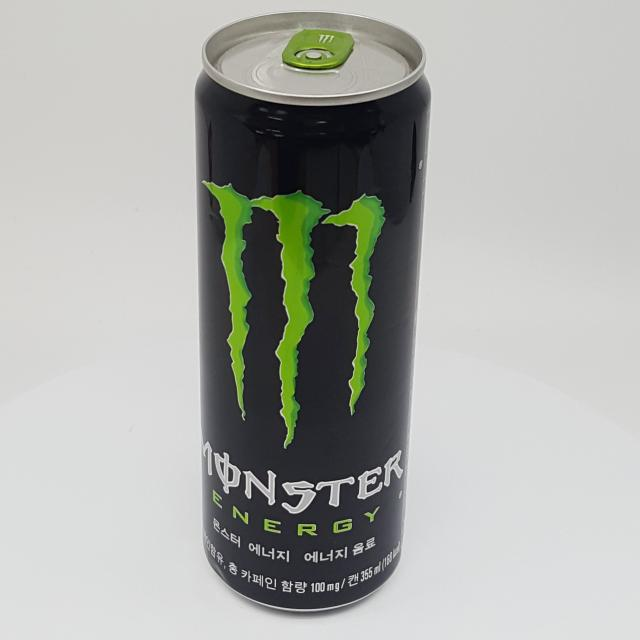--------355ML: (195, 10, 432, 612)
